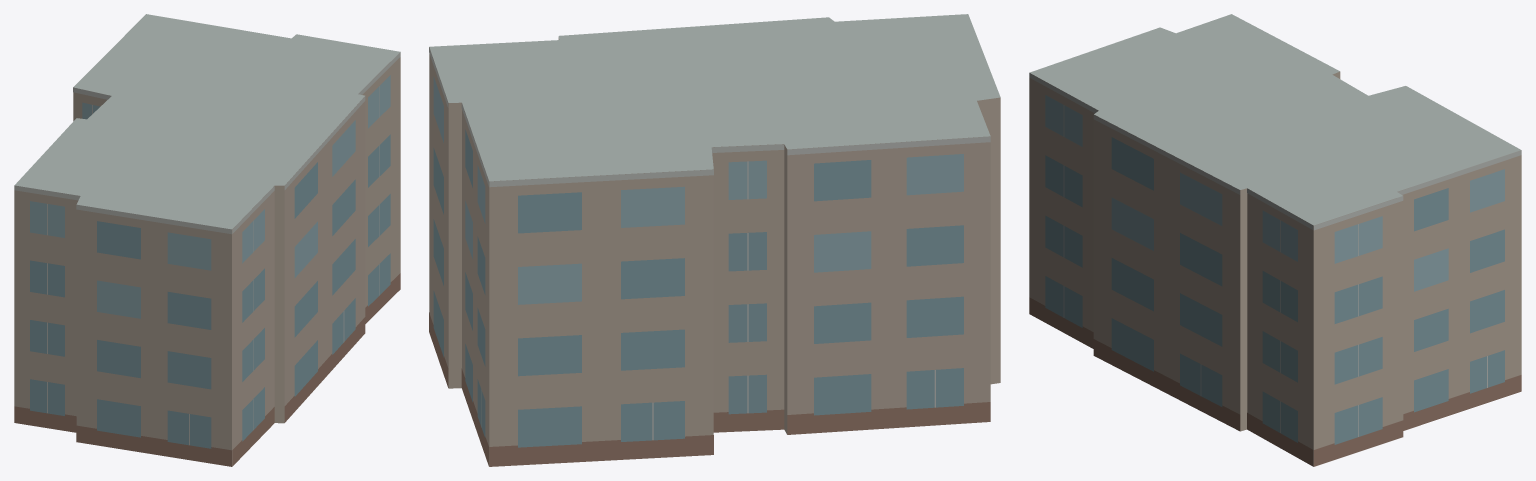
File: survey-upis-32822560.glb
3 renders of one model, left to right at view 1: azimuth 30°, elevation 25°; view 2: azimuth 150°, elevation 25°; view 3: azimuth 270°, elevation 25°, orthographic. The views are drawn at different scales.
Visible parts, largest first — view 1: survey-upis-32822560.tmp; view 2: survey-upis-32822560.tmp; view 3: survey-upis-32822560.tmp.
Boxes of the visible parts, x1,y1,x2,y2 form: survey-upis-32822560.tmp: (14,14,400,466); survey-upis-32822560.tmp: (429,14,1000,466); survey-upis-32822560.tmp: (1029,14,1521,466).
Size of the model in its own units: 22.38 by 11.9 by 22.01.
